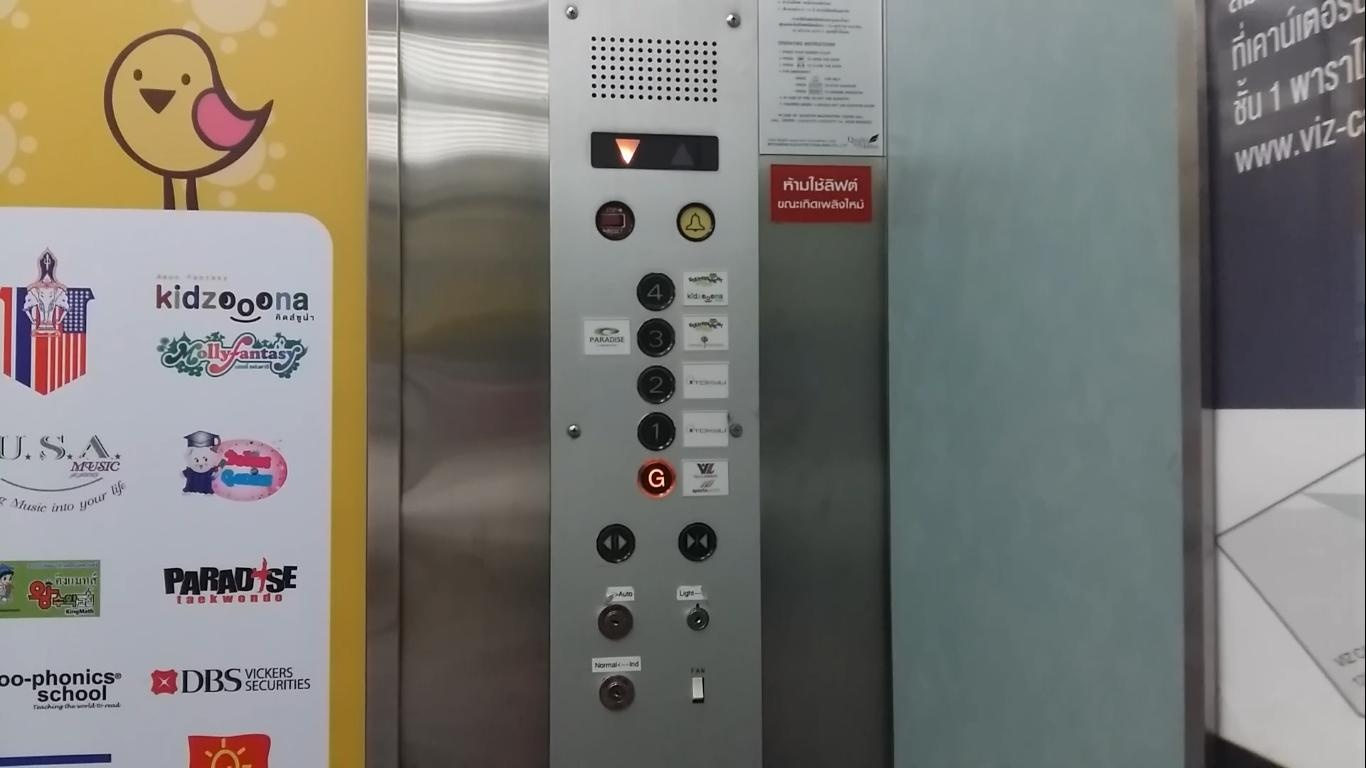1: (636, 410, 676, 452)
2: (636, 364, 677, 405)
3: (634, 317, 678, 359)
4: (634, 269, 677, 313)
G: (637, 458, 675, 499)
alarm: (675, 202, 715, 242)
bt_switch: (594, 200, 636, 242)
close: (677, 523, 717, 561)
keyhole: (596, 670, 645, 714), (597, 602, 635, 640), (682, 596, 714, 640)
open: (595, 522, 637, 563)
switch: (682, 664, 718, 712)
